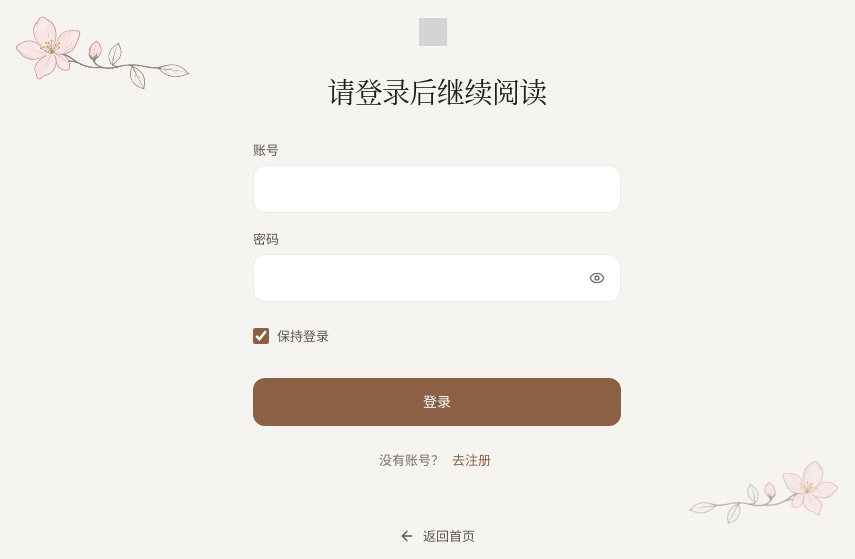
Test case: Auth › 密码显隐可操作，切换注册时恢复隐藏和新密码自动填充语义
Click the button named "显示密码". click: (597, 278)
box: [575,256,619,300]
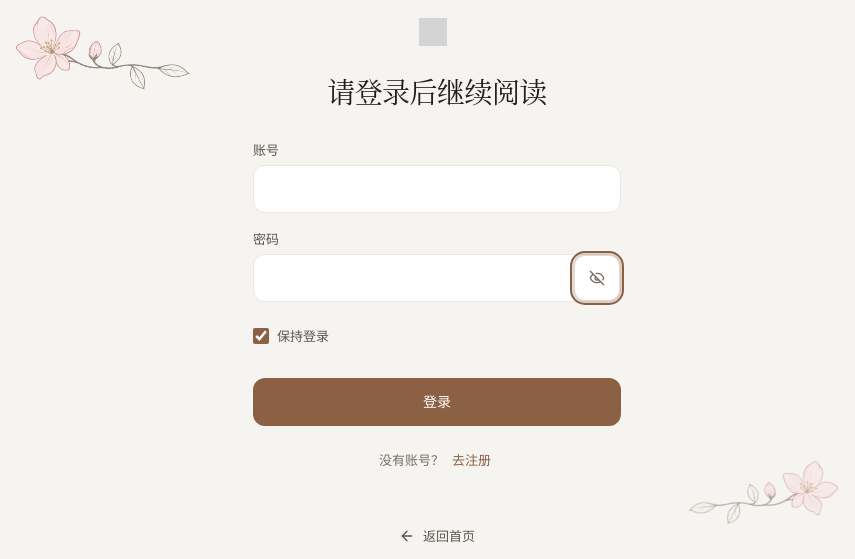
Click the button "去注册". click: (472, 460)
box: [448,438,495,482]
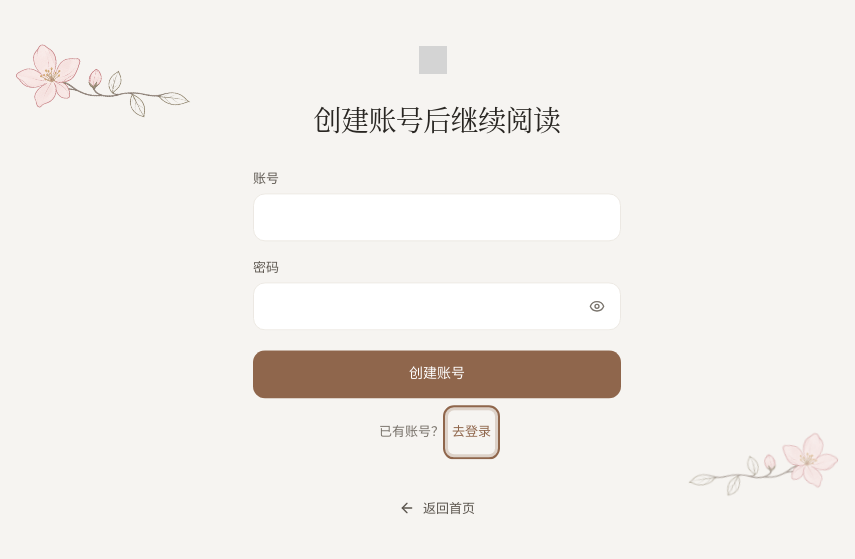
Check: the heading reads "创建账号后继续阅读", box [314,99,560,139]
Check: the checkbox is gone
